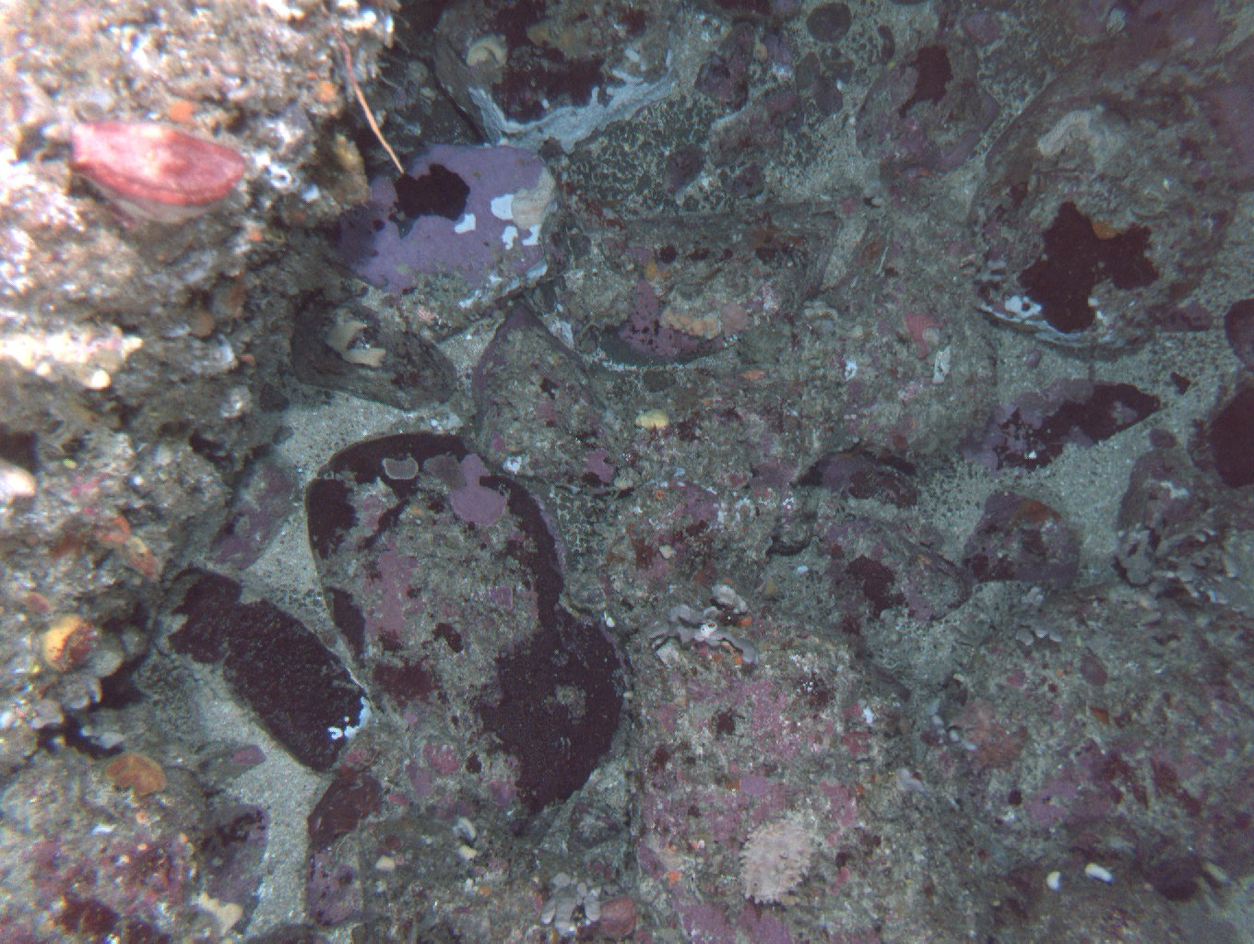Brachionichthyidae: (892, 165, 936, 191)
